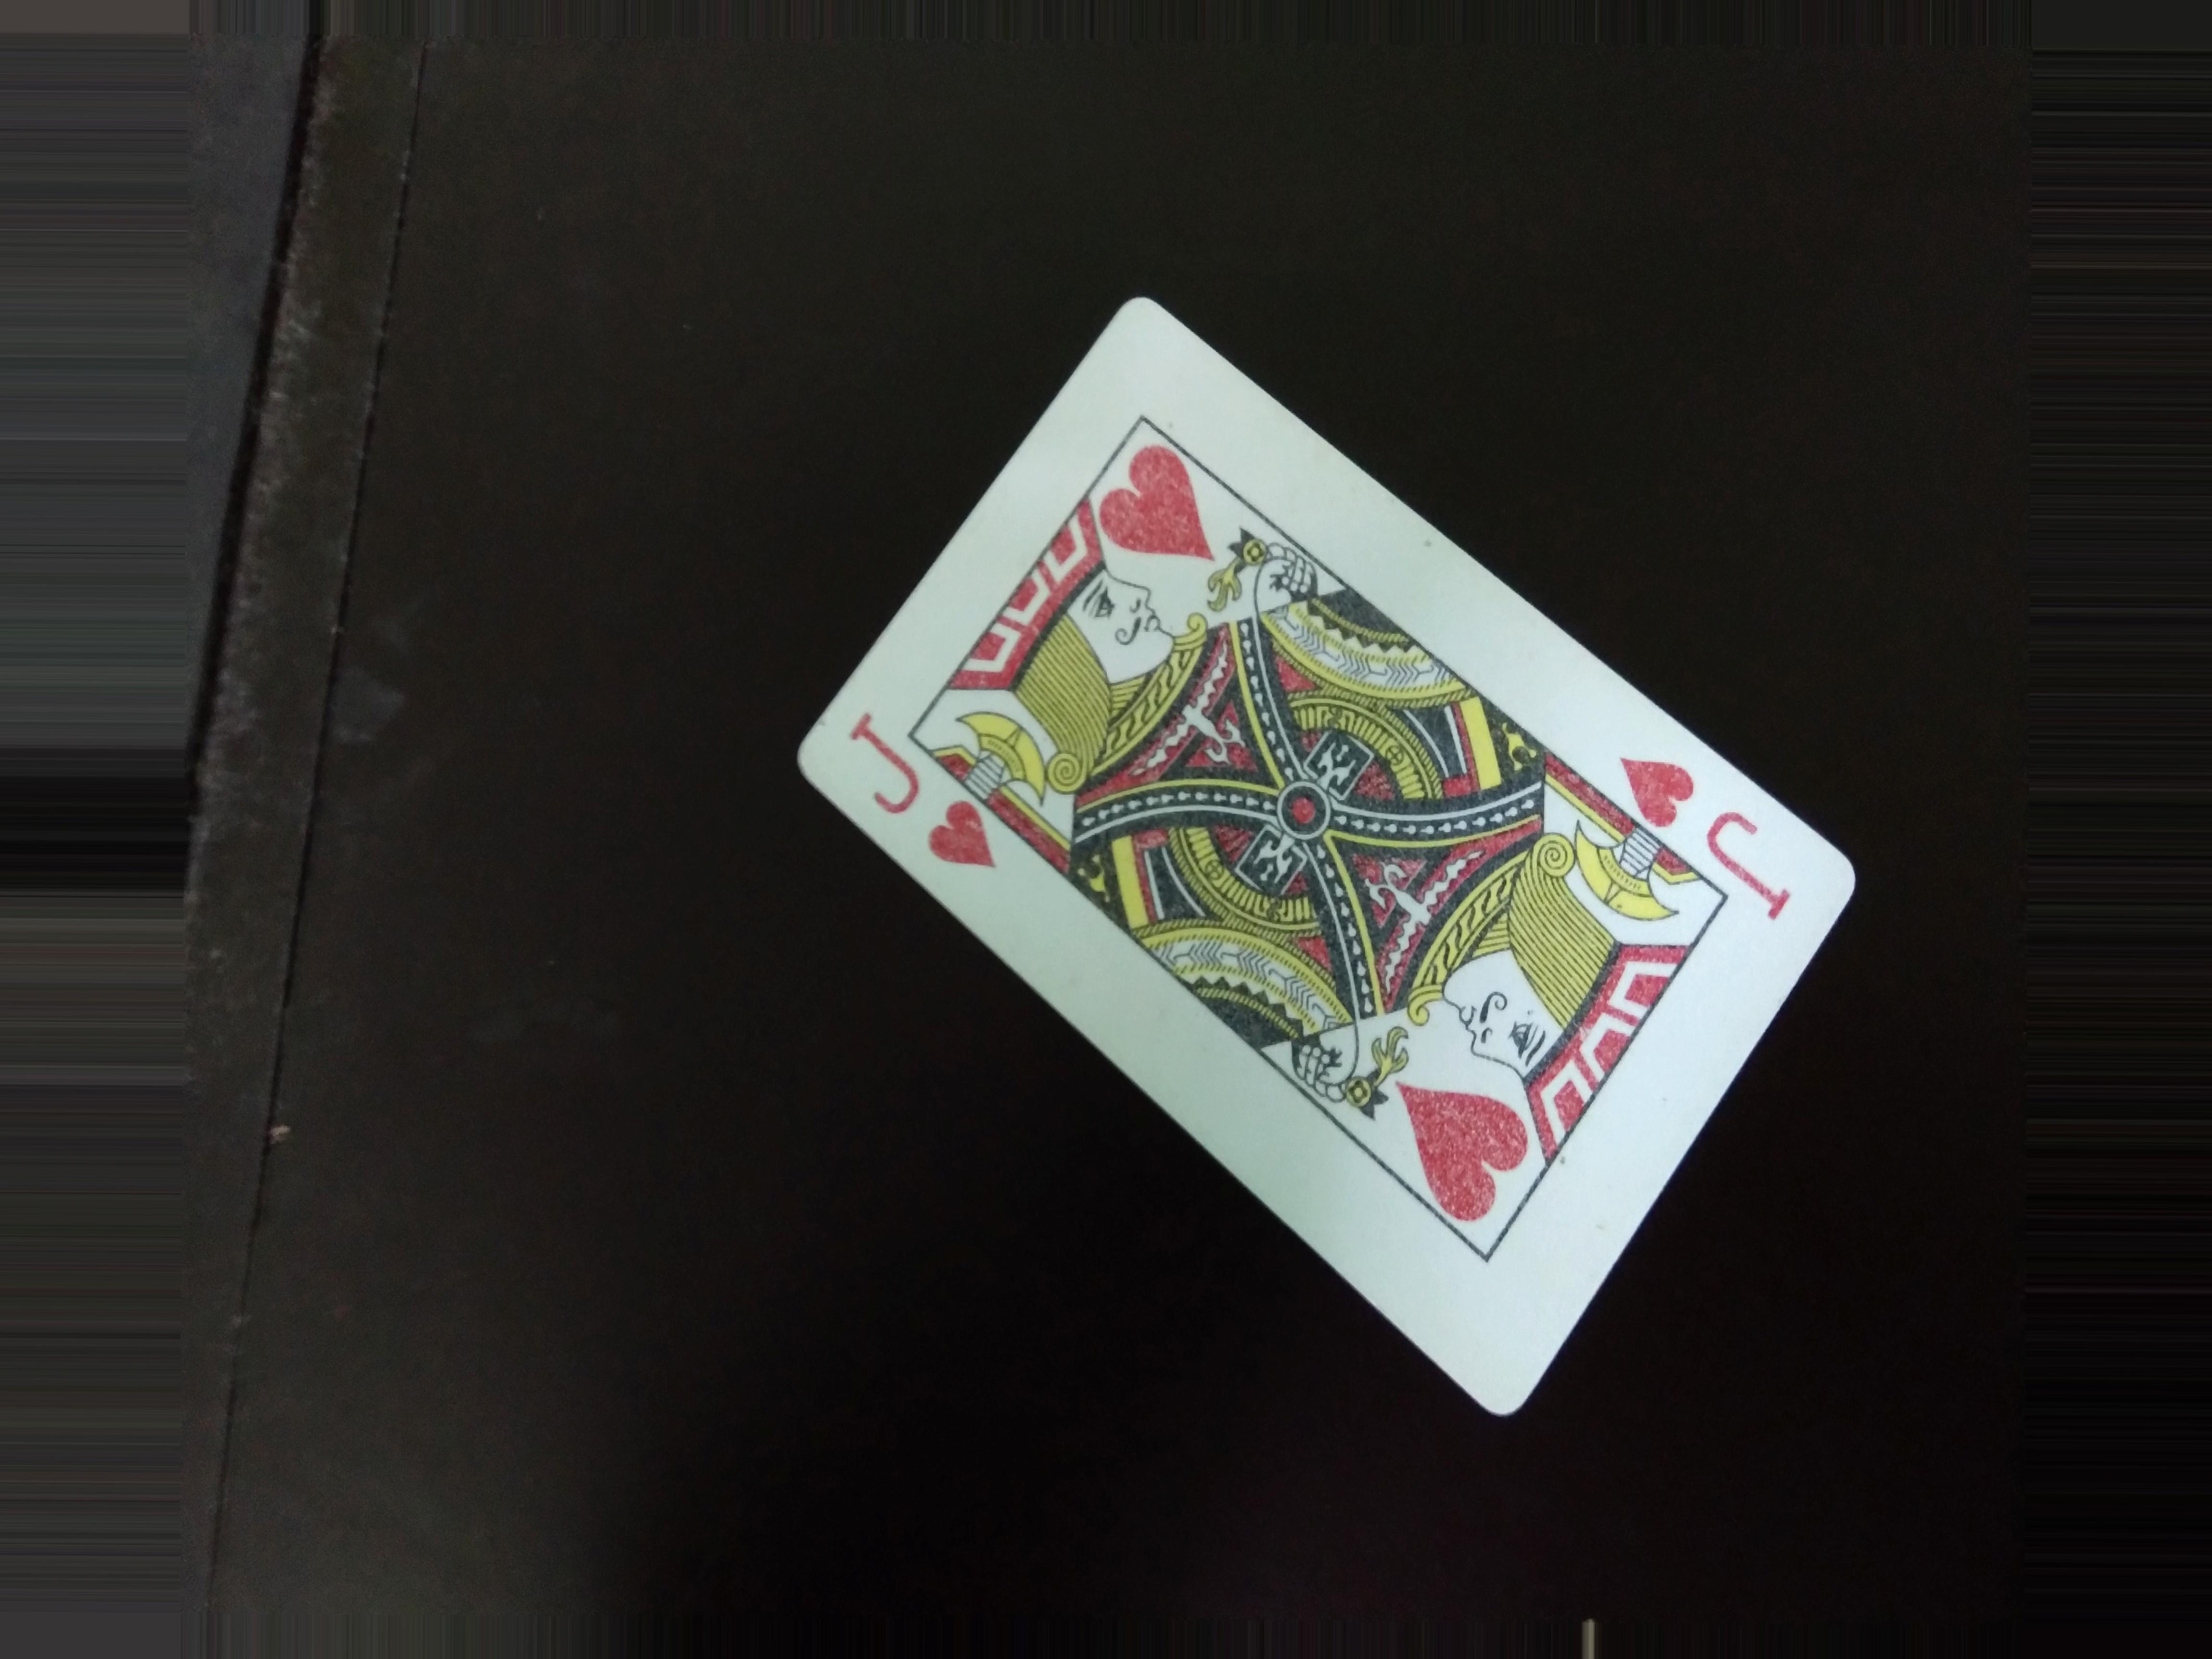JH: (838, 709, 995, 884)
